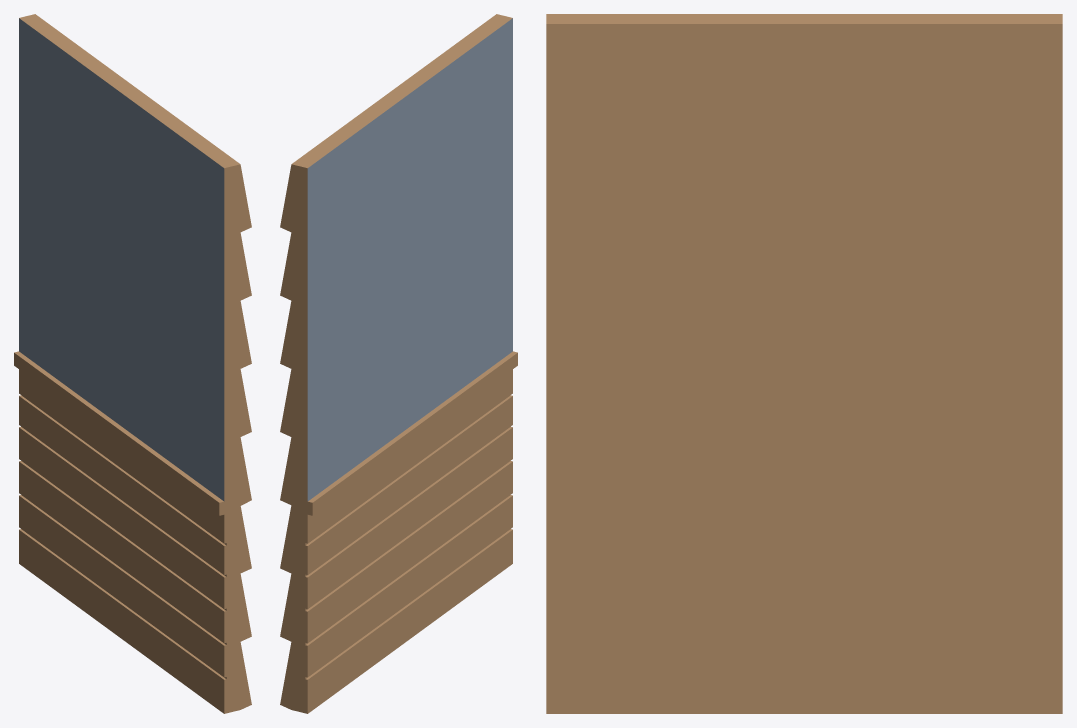
File: Small Wall B.glb
3 views of the same model, side by side, from view 1: azimuth 30°, elevation 25°; view 2: azimuth 150°, elevation 25°; view 3: azimuth 270°, elevation 25° (orthographic). The views are drawn at different scales.
Visible parts, largest first — view 1: Small Wall B; view 2: Small Wall B; view 3: Small Wall B.
Boxes of the visible parts, x1=… form: Small Wall B: x1=14, y1=14, x2=251, y2=713; Small Wall B: x1=280, y1=14, x2=517, y2=713; Small Wall B: x1=546, y1=14, x2=1062, y2=713.
Size of the model in its own units: 13.78 by 220 by 150.
